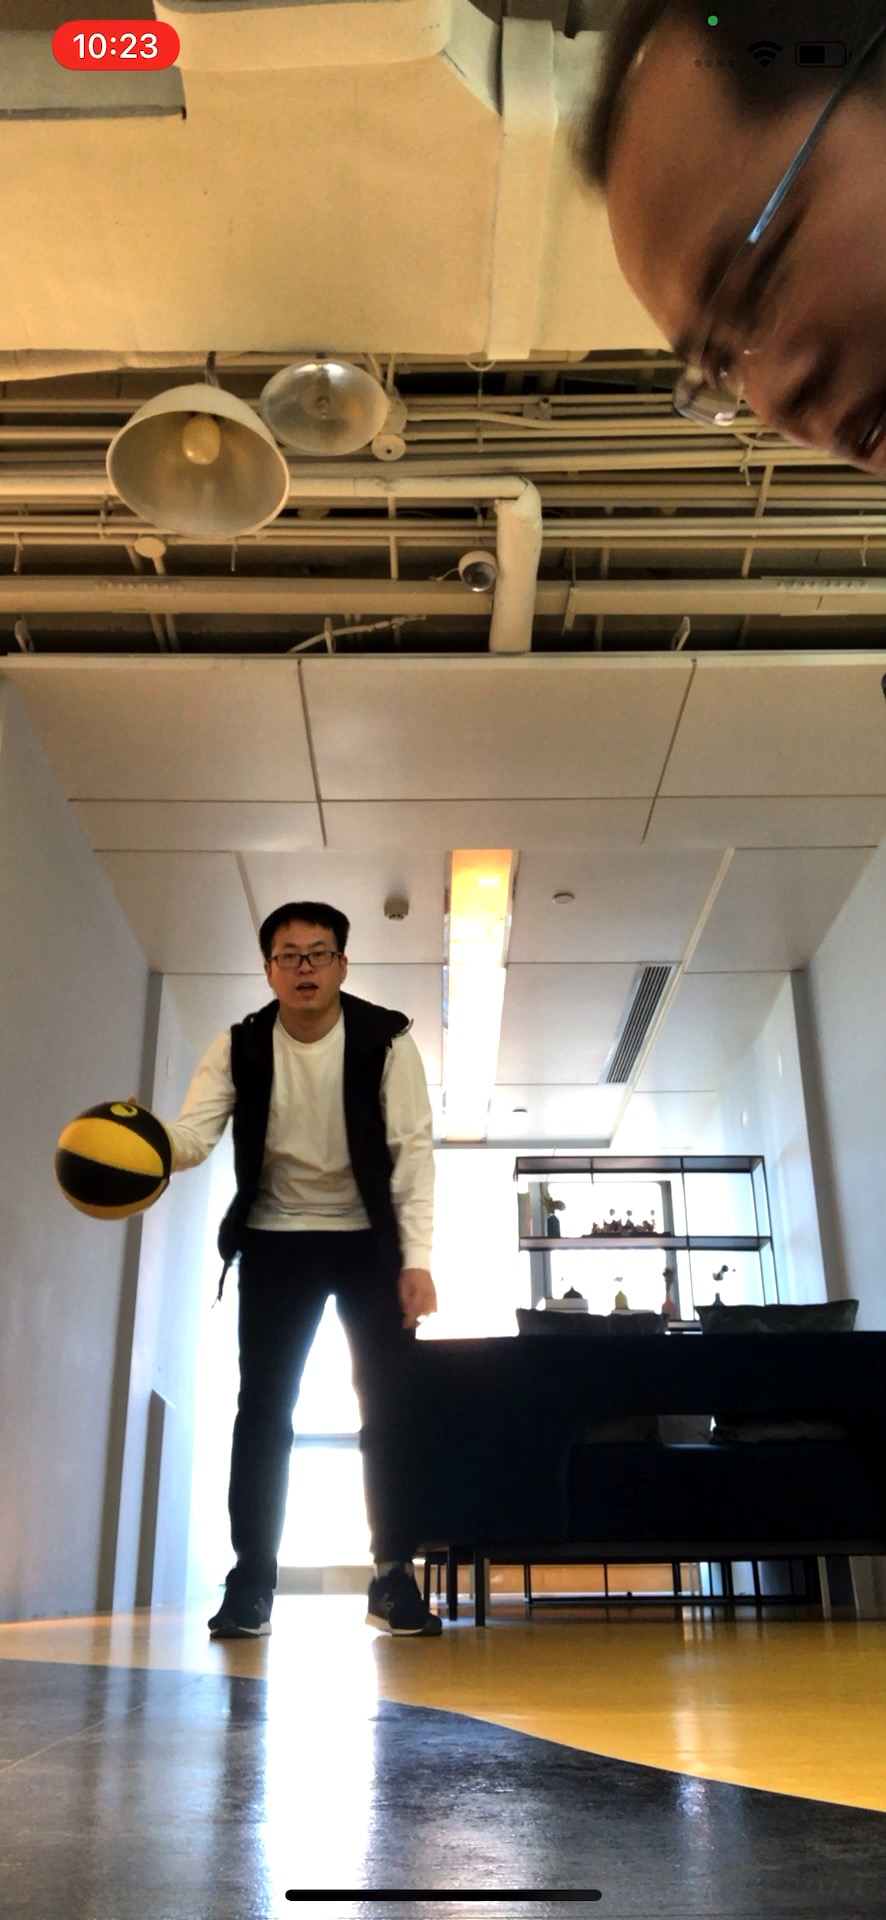ball: (55, 1102, 166, 1223)
